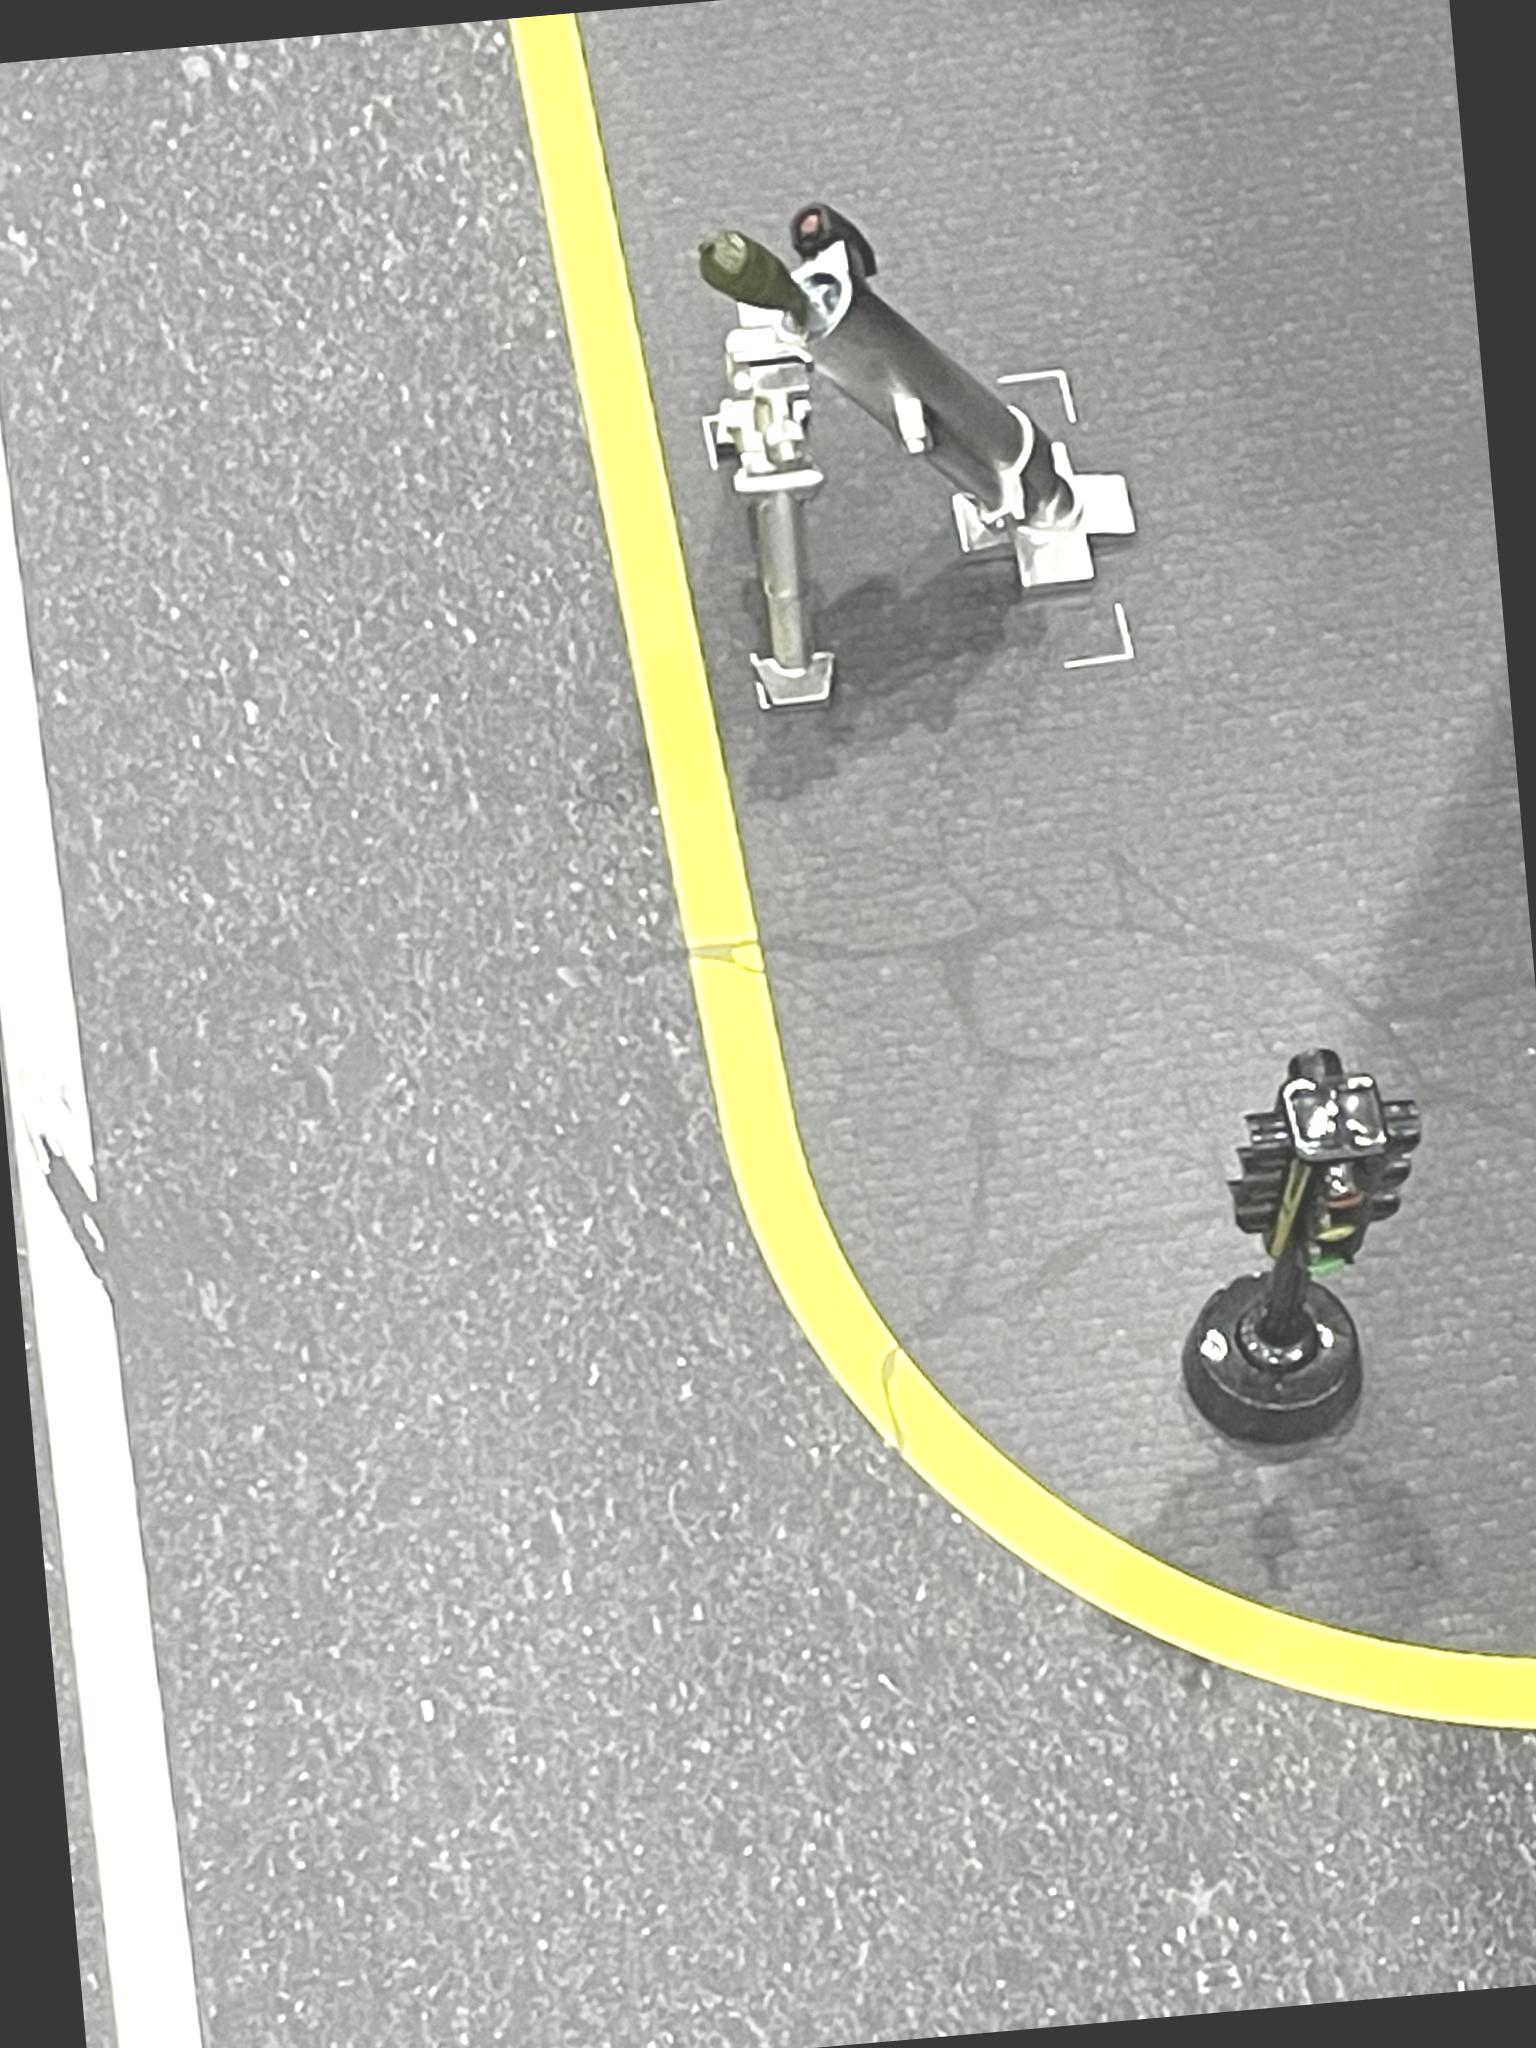Mortar: (681, 144, 1168, 743)
